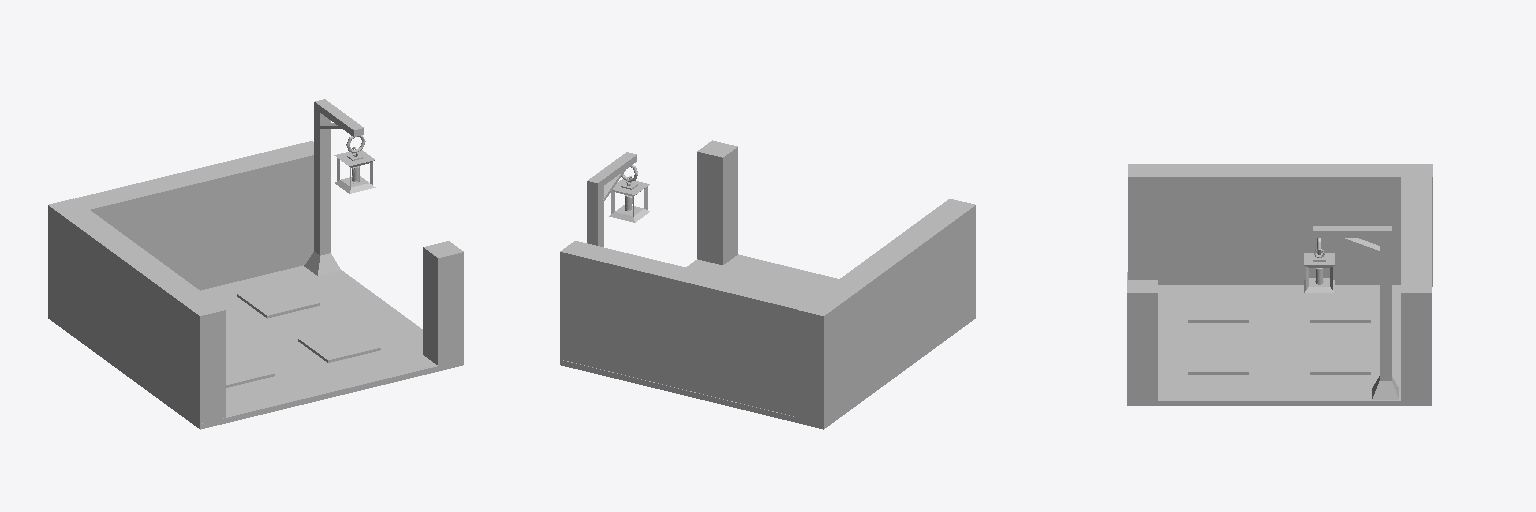
The picture shows the model from 3 angles: view 1: azimuth 30°, elevation 25°; view 2: azimuth 150°, elevation 25°; view 3: azimuth 270°, elevation 25°; orthographic projection.
Parts seen in each view (by area): view 1: Ecke_Stein_Licht; view 2: Ecke_Stein_Licht; view 3: Ecke_Stein_Licht.
Part boxes in pixels (left/top/right/bottom): Ecke_Stein_Licht: left=48, top=99, right=463, bottom=429; Ecke_Stein_Licht: left=560, top=140, right=975, bottom=429; Ecke_Stein_Licht: left=1127, top=164, right=1432, bottom=405.
Bounding box in the file's own units: 5 × 3.1 × 5.